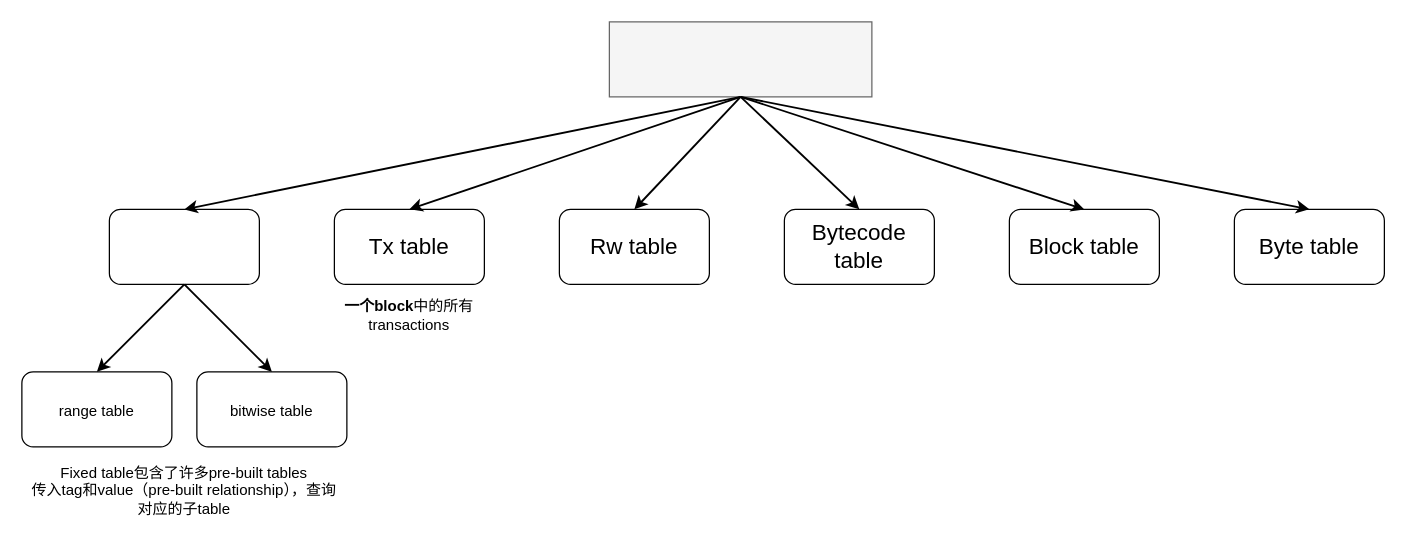
This 1406x544 diagram has some shape labels left out. Each missing label, with the box of its shape:
EVM circuit -> Tables: (608, 21, 872, 97)
Fixed table: (108, 208, 259, 284)
